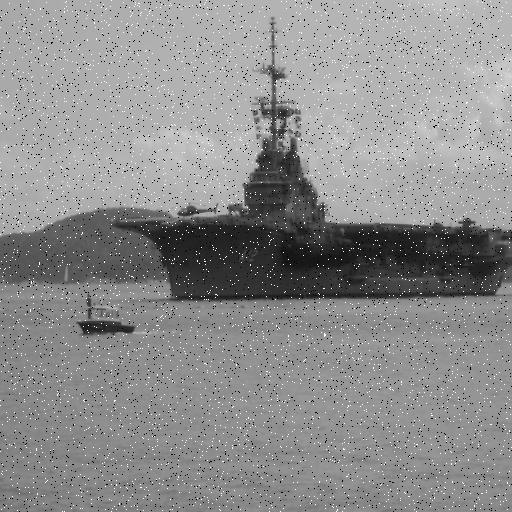Portanaves: (109, 17, 512, 305)
